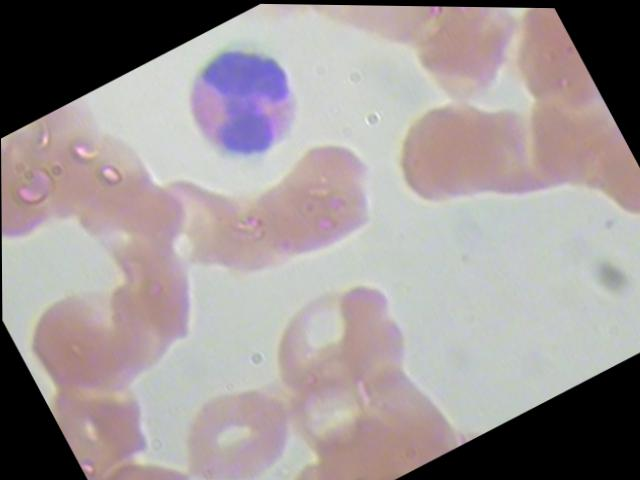Red Blood Cells: (228, 124, 398, 286), (5, 263, 174, 423), (248, 271, 399, 418), (63, 148, 214, 294), (382, 4, 553, 127), (377, 87, 515, 227), (160, 365, 311, 479), (1, 131, 74, 266), (319, 4, 458, 66), (87, 434, 236, 479)
White Blood Cells: (163, 23, 329, 190)
